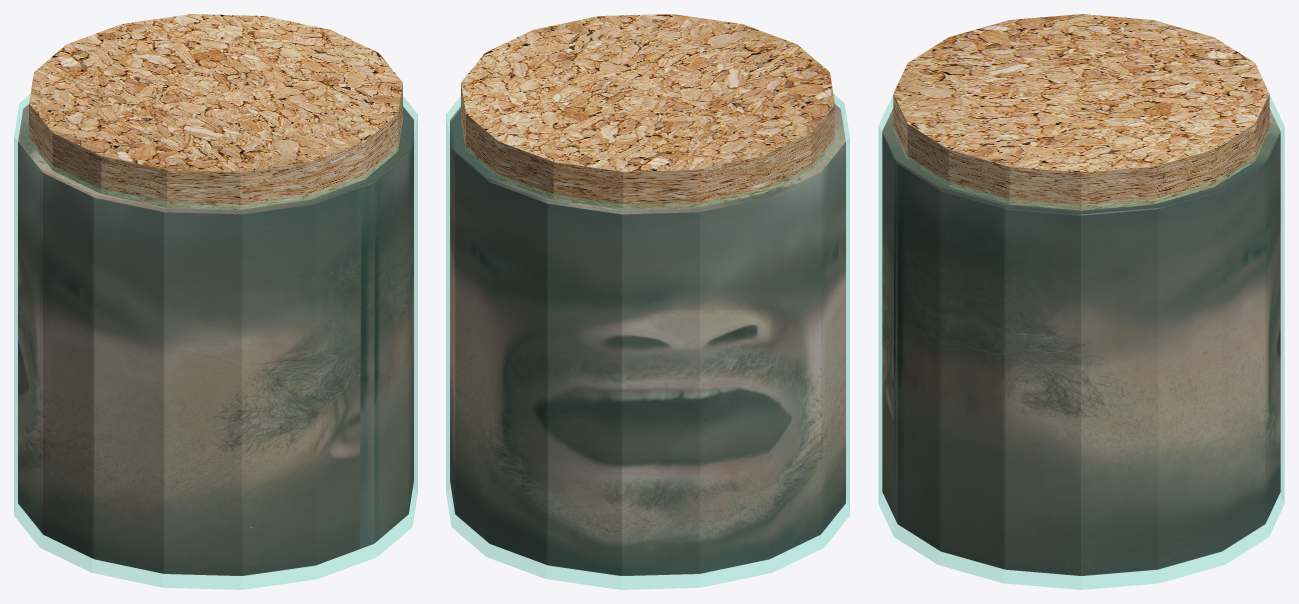
File: jar.obj
The picture shows the model from 3 angles, left to right: view 1: azimuth 30°, elevation 25°; view 2: azimuth 150°, elevation 25°; view 3: azimuth 270°, elevation 25°; orthographic projection.
Visible parts, largest first — view 1: Cylinder.001, Cylinder, Cylinder.002; view 2: Cylinder.001, Cylinder, Cylinder.002; view 3: Cylinder.001, Cylinder, Cylinder.002.
Boxes of the visible parts, x1,y1,x2,y2 form: Cylinder.001: (14, 94, 417, 589); Cylinder: (18, 104, 413, 575); Cylinder.002: (29, 14, 402, 209); Cylinder.001: (446, 94, 849, 589); Cylinder: (450, 104, 845, 575); Cylinder.002: (461, 14, 834, 209); Cylinder.001: (878, 96, 1284, 589); Cylinder: (882, 108, 1280, 575); Cylinder.002: (893, 14, 1269, 210).
Bounding box in the file's own units: 0.4413 × 0.4923 × 0.4413.
Materials: 3 (2 with a texture image).
